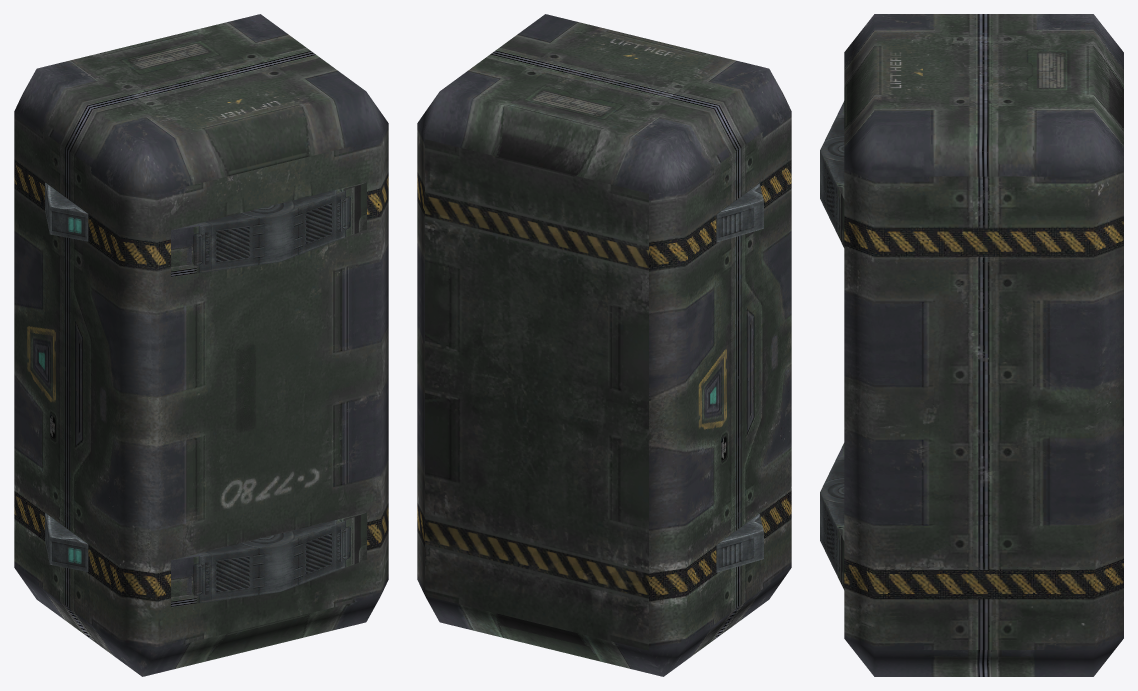
The model's file is t6_wpn_supply_drop_ally_LOD2.obj.
3 renders of one model, left to right at view 1: azimuth 30°, elevation 25°; view 2: azimuth 150°, elevation 25°; view 3: azimuth 270°, elevation 25°, orthographic. The views are drawn at different scales.
Parts seen in each view (by area): view 1: mtl_t6_wpn_supply_drop_ally; view 2: mtl_t6_wpn_supply_drop_ally; view 3: mtl_t6_wpn_supply_drop_ally.
Boxes of the visible parts, x1,y1,x2,y2 form: mtl_t6_wpn_supply_drop_ally: [14, 14, 388, 676]; mtl_t6_wpn_supply_drop_ally: [417, 14, 791, 676]; mtl_t6_wpn_supply_drop_ally: [820, 14, 1123, 676].
Size of the model in its own units: 103 by 181 by 90.68.
